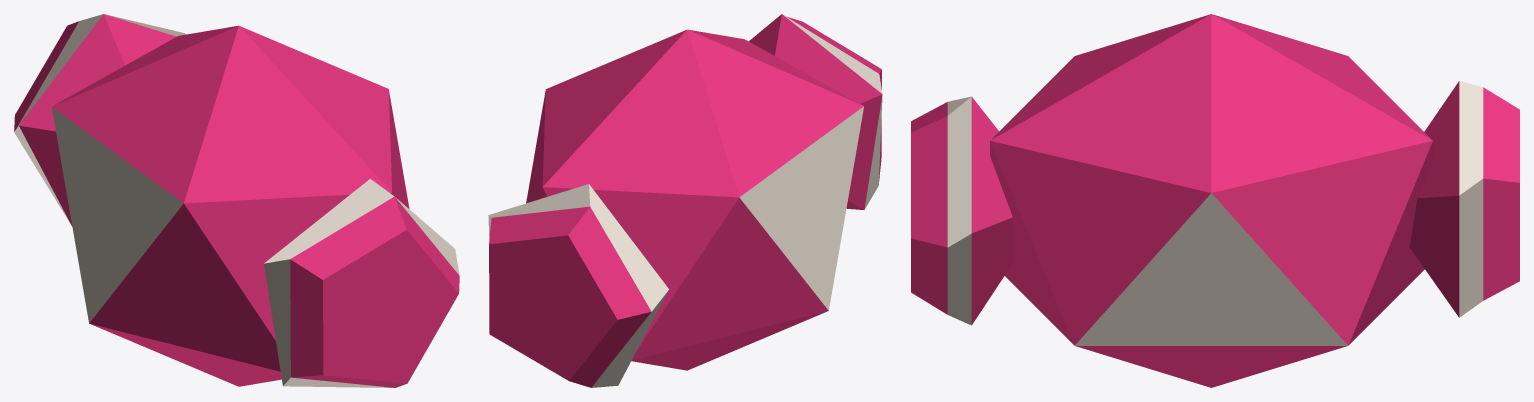
The model's file is Candy.fbx.
3 views of the same model, side by side, from view 1: azimuth 30°, elevation 25°; view 2: azimuth 150°, elevation 25°; view 3: azimuth 270°, elevation 25° (orthographic). The views are drawn at different scales.
Visible parts, largest first — view 1: Candy; view 2: Candy; view 3: Candy.
Boxes of the visible parts, left/top/right/bottom form: Candy: left=14, top=14, right=459, bottom=387; Candy: left=488, top=14, right=882, bottom=387; Candy: left=911, top=14, right=1519, bottom=387.
Bounding box in the file's own units: 41.38 × 47.66 × 70.31.
